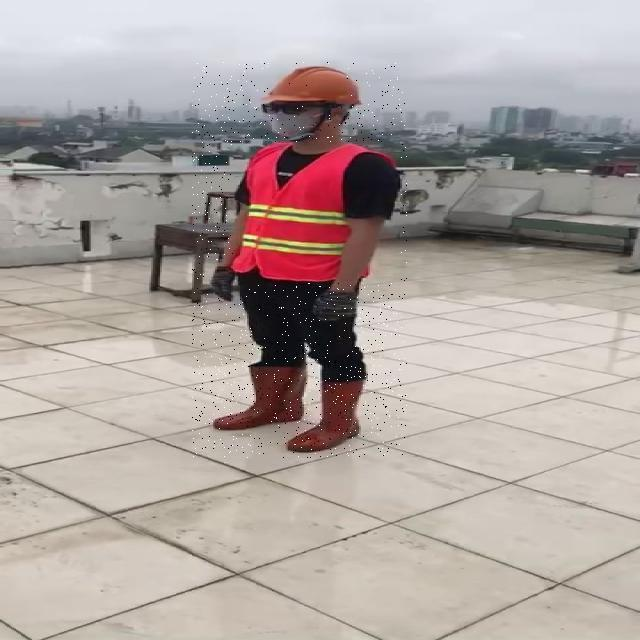gloves: (313, 285, 359, 323), (208, 264, 235, 303)
goggles: (261, 102, 330, 116)
helmet: (268, 64, 366, 106)
safety_vest: (233, 142, 400, 283)
